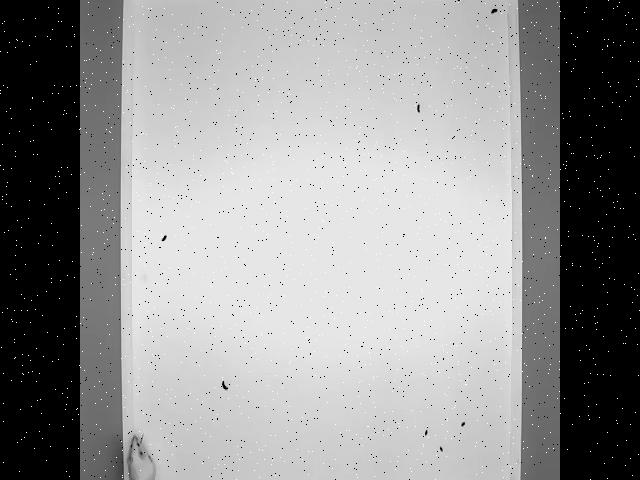Tikus: (122, 432, 158, 480)
